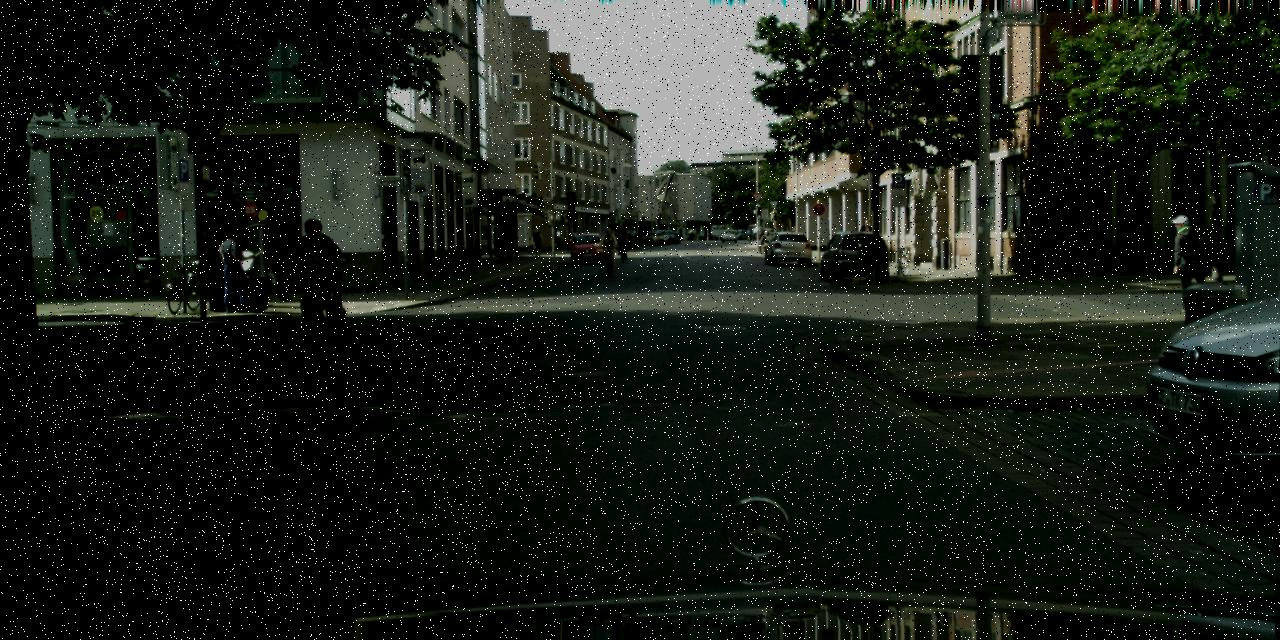ped: (298, 218, 344, 329), (1170, 214, 1208, 310), (217, 230, 251, 312), (269, 224, 299, 298), (601, 228, 617, 268), (858, 219, 874, 256), (490, 225, 504, 262), (614, 226, 626, 257), (531, 228, 542, 256), (757, 227, 765, 247), (746, 228, 751, 240), (689, 228, 693, 239)
